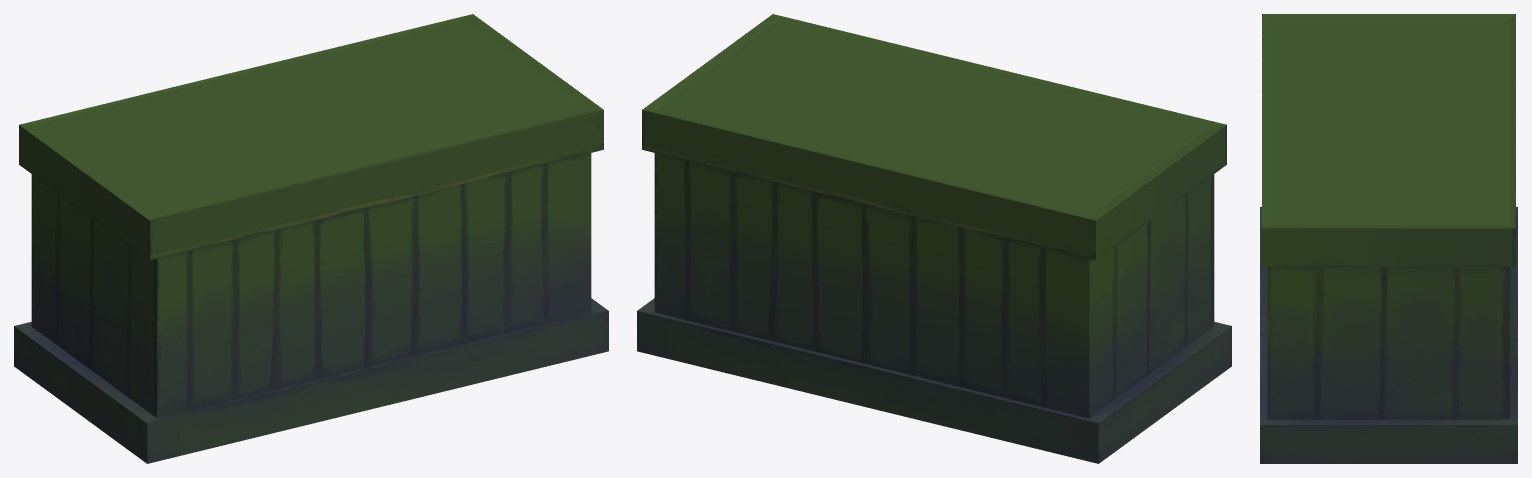
File: container.fbx
3 renders of one model, left to right at view 1: azimuth 30°, elevation 25°; view 2: azimuth 150°, elevation 25°; view 3: azimuth 270°, elevation 25°, orthographic. The views are drawn at different scales.
Parts seen in each view (by area): view 1: Cube; view 2: Cube; view 3: Cube.
Boxes of the visible parts, <box> form: Cube: <box>14,14,608,463</box>; Cube: <box>637,14,1231,463</box>; Cube: <box>1260,14,1517,463</box>.
Size of the model in its own units: 400 by 200 by 200.
